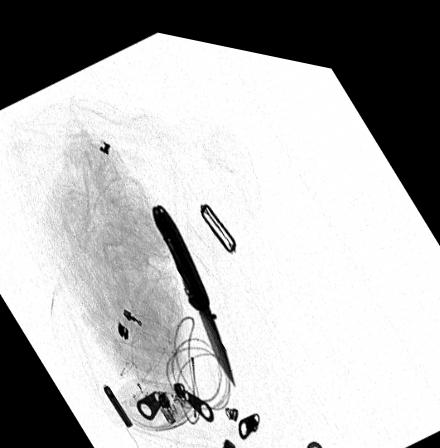Knife: (150, 196, 235, 378)
